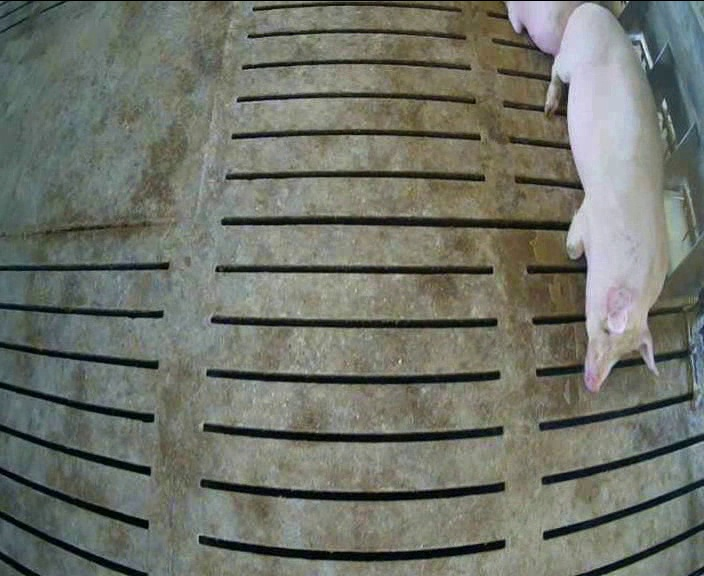pig: (545, 4, 667, 391)
